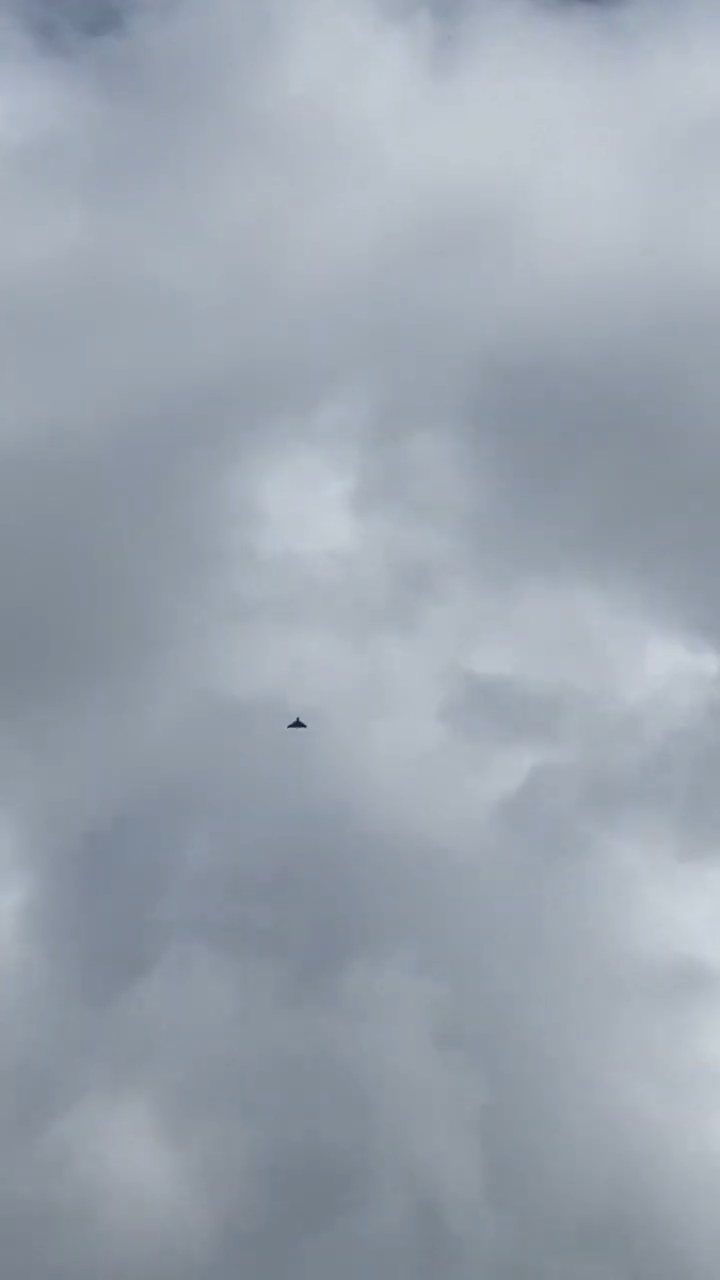shahed: (286, 715, 309, 731)
